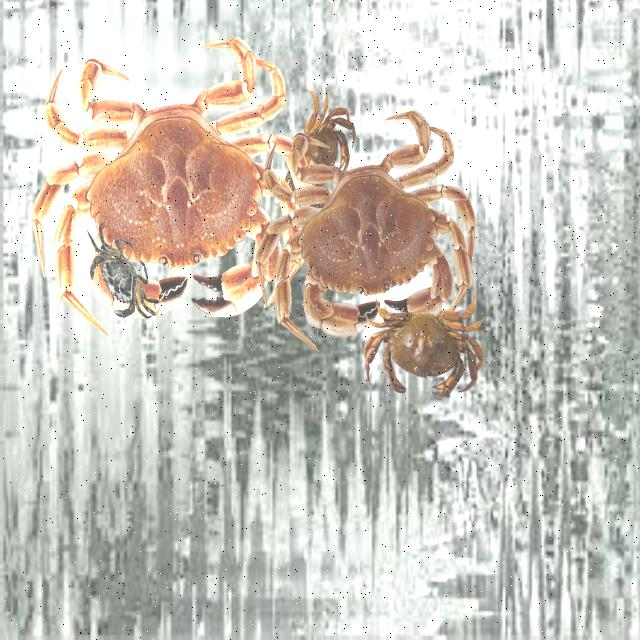European_Green_Crab: (71, 204, 171, 344)
